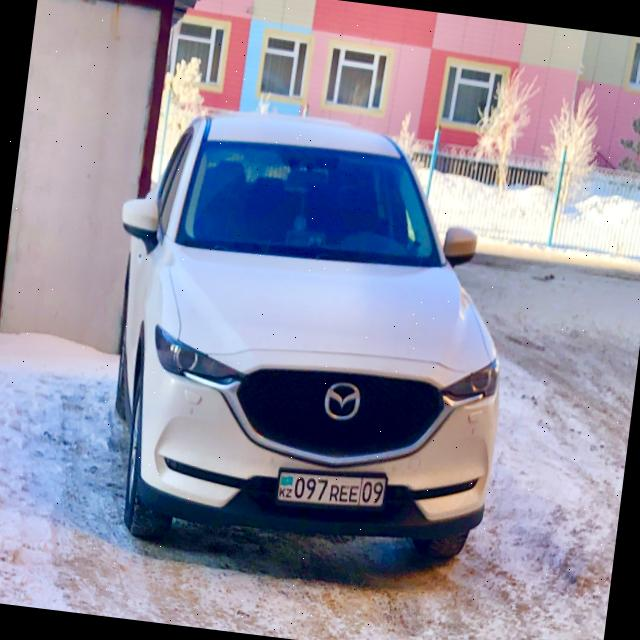License-plate: (274, 464, 388, 514)
